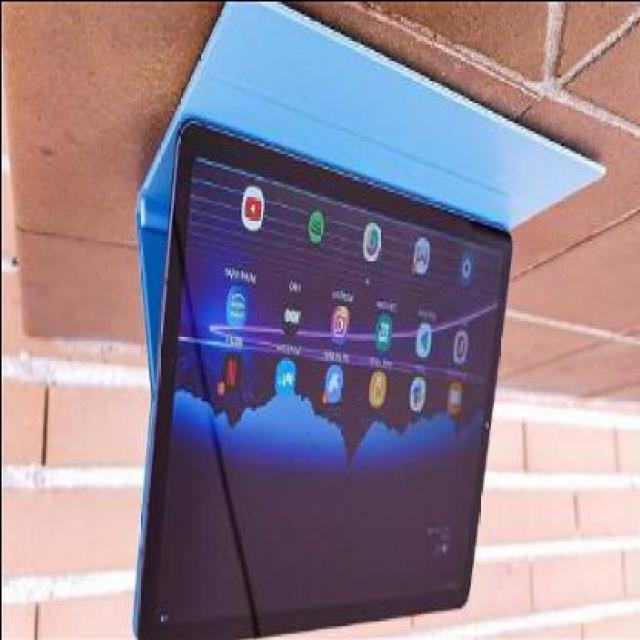laptop_computer: (148, 44, 538, 631)
